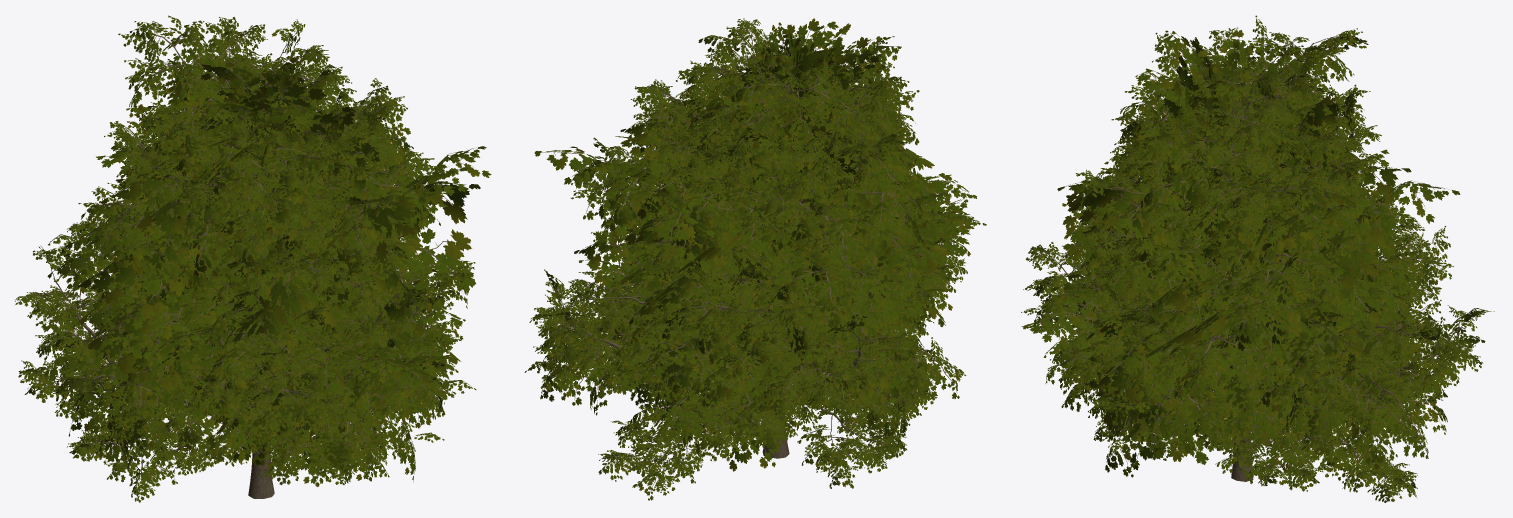
File: maple.glb
3 renders of one model, left to right at view 1: azimuth 30°, elevation 25°; view 2: azimuth 150°, elevation 25°; view 3: azimuth 270°, elevation 25°, orthographic. The views are drawn at different scales.
Parts seen in each view (by area): view 1: maple-medium-1-foliage, maple-large-1-foliage, maple-large-3-foliage, maple-small-2-foliage, maple-large-2-foliage, maple-medium-2-foliage, maple-sapling-2-foliage, maple-sapling-1-foliage, maple-sapling-3-foliage, maple-small-3-foliage, maple-medium-3-foliage, maple-small-1-foliage (+2 smaller); view 2: maple-large-1-foliage, maple-medium-1-foliage, maple-large-3-foliage, maple-medium-3-foliage, maple-small-2-foliage, maple-small-1-foliage, maple-large-2-foliage, maple-small-3-foliage, maple-sapling-1-foliage, maple-medium-2-foliage, maple-sapling-3-foliage, maple-sapling-2-foliage (+2 smaller); view 3: maple-medium-1-foliage, maple-large-1-foliage, maple-large-3-foliage, maple-small-2-foliage, maple-medium-3-foliage, maple-large-2-foliage, maple-sapling-2-foliage, maple-medium-2-foliage, maple-small-3-foliage, maple-sapling-1-foliage, maple-sapling-3-foliage, maple-small-1-foliage (+1 smaller).
Boxes of the visible parts, x1=… form: maple-medium-1-foliage: x1=53, y1=15, x2=475, y2=486; maple-large-1-foliage: x1=15, y1=59, x2=452, y2=502; maple-large-3-foliage: x1=67, y1=17, x2=473, y2=485; maple-small-2-foliage: x1=35, y1=41, x2=450, y2=465; maple-large-2-foliage: x1=116, y1=21, x2=425, y2=485; maple-medium-2-foliage: x1=93, y1=27, x2=440, y2=458; maple-sapling-2-foliage: x1=87, y1=74, x2=491, y2=392; maple-sapling-1-foliage: x1=78, y1=77, x2=467, y2=396; maple-sapling-3-foliage: x1=47, y1=58, x2=451, y2=392; maple-small-3-foliage: x1=95, y1=90, x2=430, y2=438; maple-medium-3-foliage: x1=42, y1=57, x2=476, y2=428; maple-small-1-foliage: x1=89, y1=62, x2=423, y2=462; maple-large-1-foliage: x1=529, y1=22, x2=969, y2=500; maple-medium-1-foliage: x1=524, y1=36, x2=966, y2=448; maple-large-3-foliage: x1=624, y1=18, x2=974, y2=380; maple-medium-3-foliage: x1=570, y1=25, x2=935, y2=376; maple-small-2-foliage: x1=574, y1=47, x2=921, y2=405; maple-small-1-foliage: x1=628, y1=37, x2=986, y2=471; maple-large-2-foliage: x1=595, y1=34, x2=967, y2=448; maple-small-3-foliage: x1=609, y1=23, x2=932, y2=341; maple-sapling-1-foliage: x1=595, y1=18, x2=976, y2=355; maple-medium-2-foliage: x1=604, y1=54, x2=926, y2=380; maple-sapling-3-foliage: x1=605, y1=67, x2=974, y2=295; maple-sapling-2-foliage: x1=534, y1=28, x2=946, y2=327; maple-medium-1-foliage: x1=1058, y1=15, x2=1447, y2=477; maple-large-1-foliage: x1=1062, y1=27, x2=1494, y2=502; maple-large-3-foliage: x1=1021, y1=56, x2=1453, y2=402; maple-small-2-foliage: x1=1021, y1=30, x2=1419, y2=470; maple-medium-3-foliage: x1=1071, y1=67, x2=1407, y2=460; maple-large-2-foliage: x1=1052, y1=48, x2=1412, y2=451; maple-sapling-2-foliage: x1=1063, y1=68, x2=1411, y2=415; maple-medium-2-foliage: x1=1064, y1=45, x2=1381, y2=412; maple-small-3-foliage: x1=1036, y1=31, x2=1424, y2=433; maple-sapling-1-foliage: x1=1062, y1=55, x2=1414, y2=328; maple-sapling-3-foliage: x1=1057, y1=50, x2=1460, y2=363; maple-small-1-foliage: x1=1124, y1=41, x2=1456, y2=439.
Size of the model in its own units: 1.04 by 1 by 1.03.
Materials: 2 (2 with a texture image).
